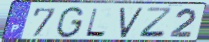2: (169, 7, 199, 39)
7: (31, 7, 58, 38)
G: (54, 6, 86, 40)
L: (84, 7, 108, 38)
V: (119, 7, 145, 40)
Z: (138, 7, 175, 39)
